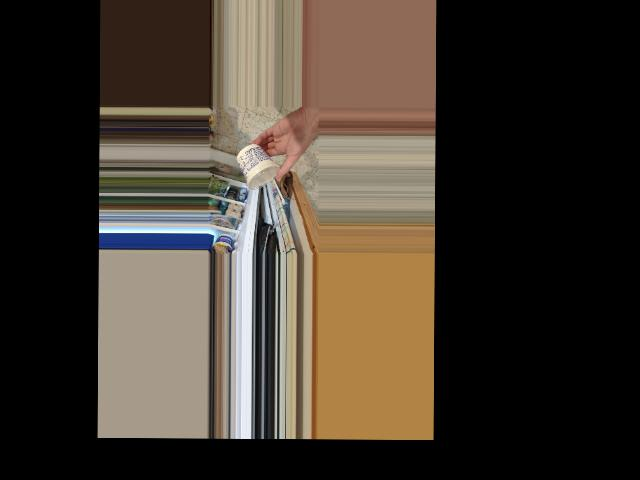cotage: (238, 150, 279, 191)
